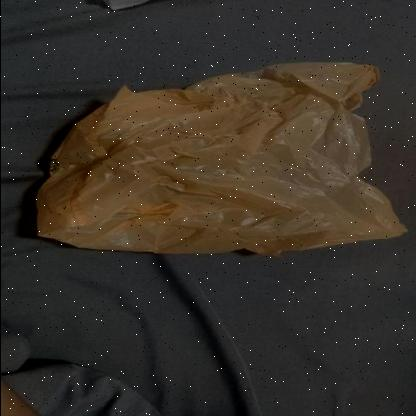Others: (39, 60, 409, 254)
